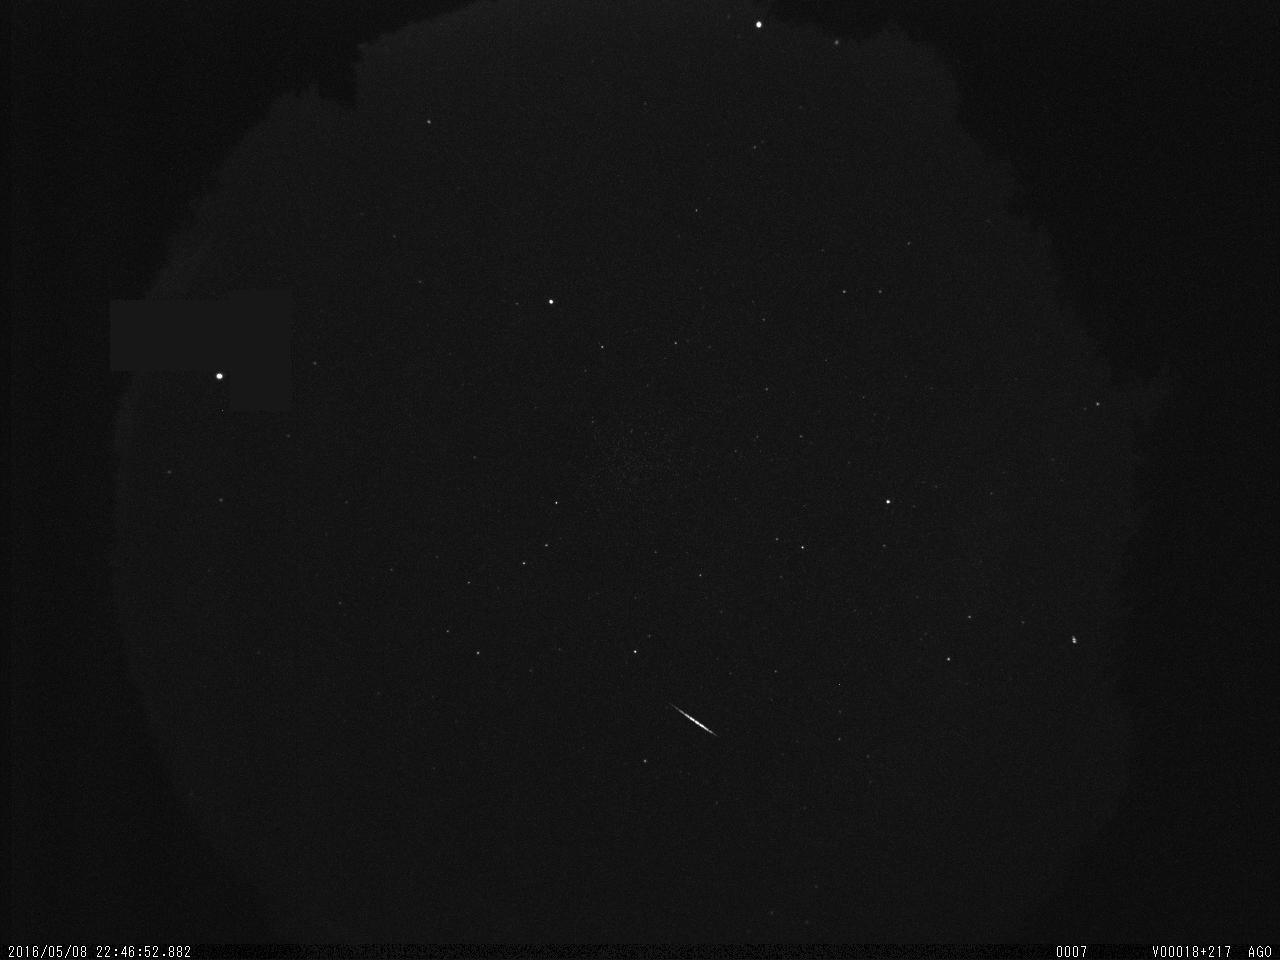meteor: (664, 690, 728, 751)
